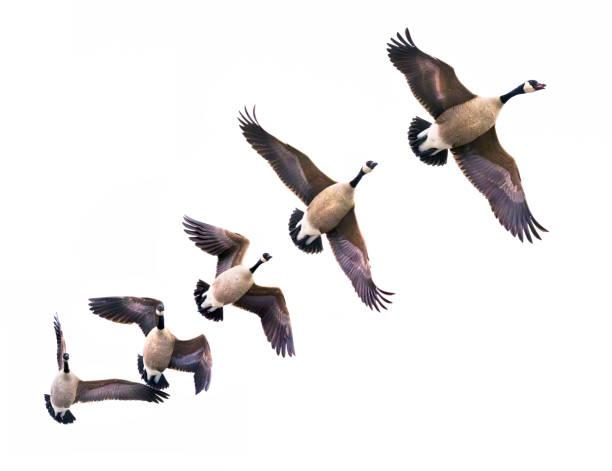Canadian-Goose: (386, 23, 557, 245), (237, 103, 402, 314), (181, 213, 299, 360), (90, 289, 215, 403), (44, 313, 163, 431)
